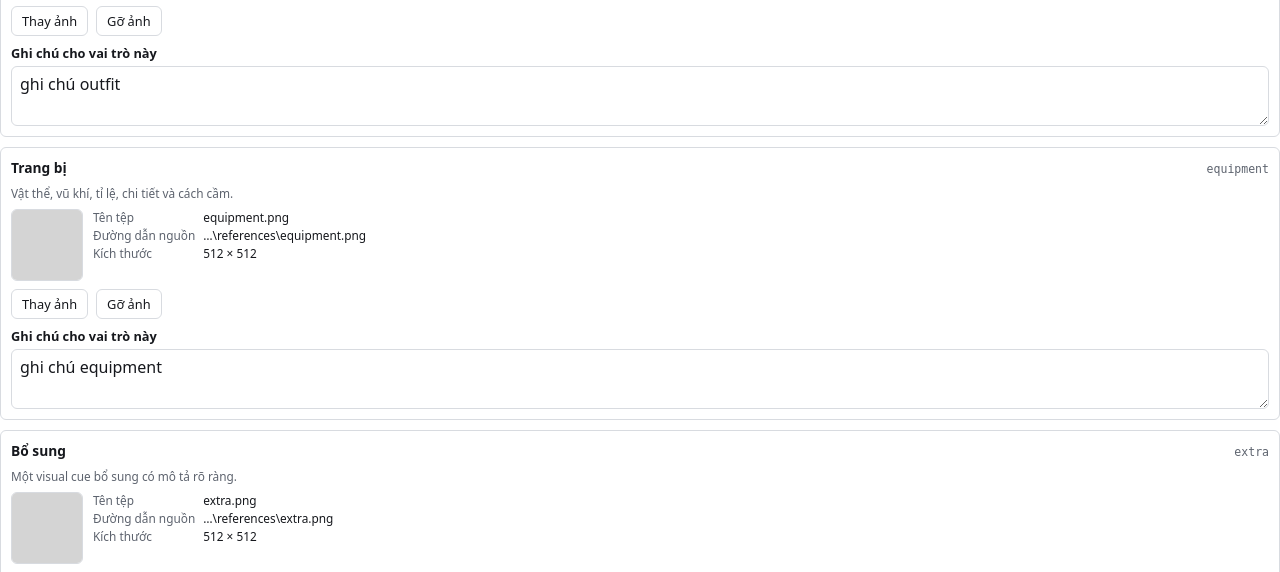
it: a slot on its own (spec section 4.2) › drops the note of the slot it removes, and only that one
(page scrolled)
Click the button "Gỡ ảnh" below "…\\references\\equipment.png". click: (129, 304)
box: [96,289,162,319]
(page scrolled)
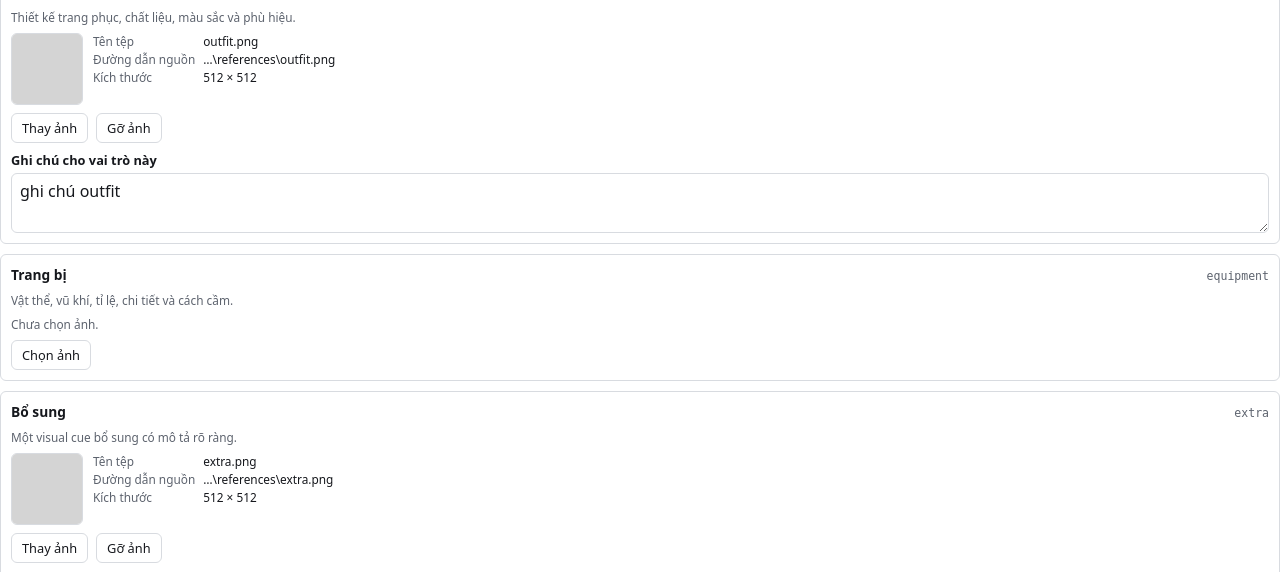
Check: the text "Chưa chọn ảnh." is shown, box [11,316,98,332]
